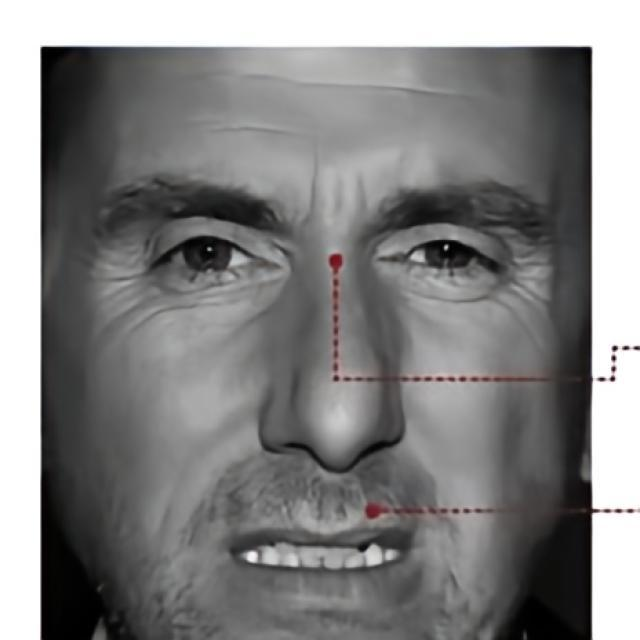disgust: (42, 49, 591, 640)
